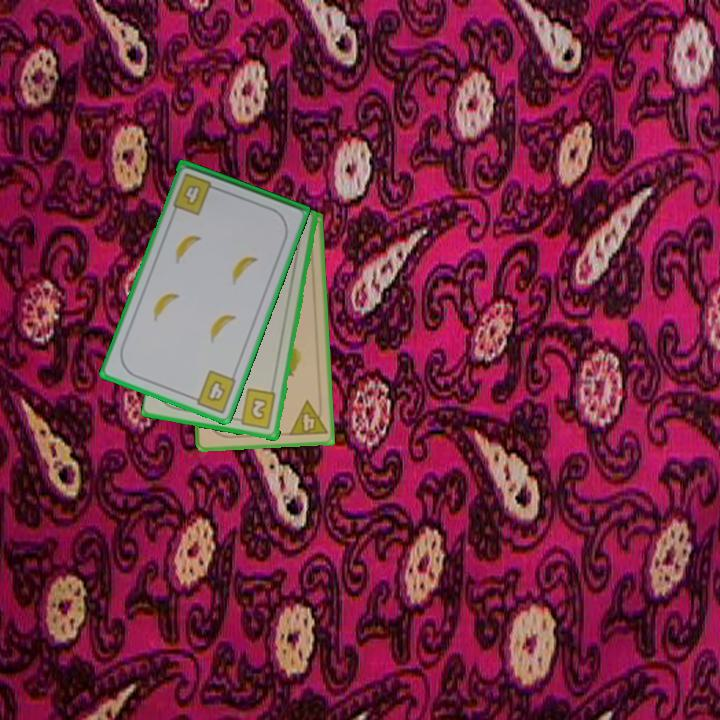2b: (232, 386, 279, 432)
4b: (187, 367, 239, 416), (169, 170, 221, 218)
4p: (285, 397, 330, 439)
